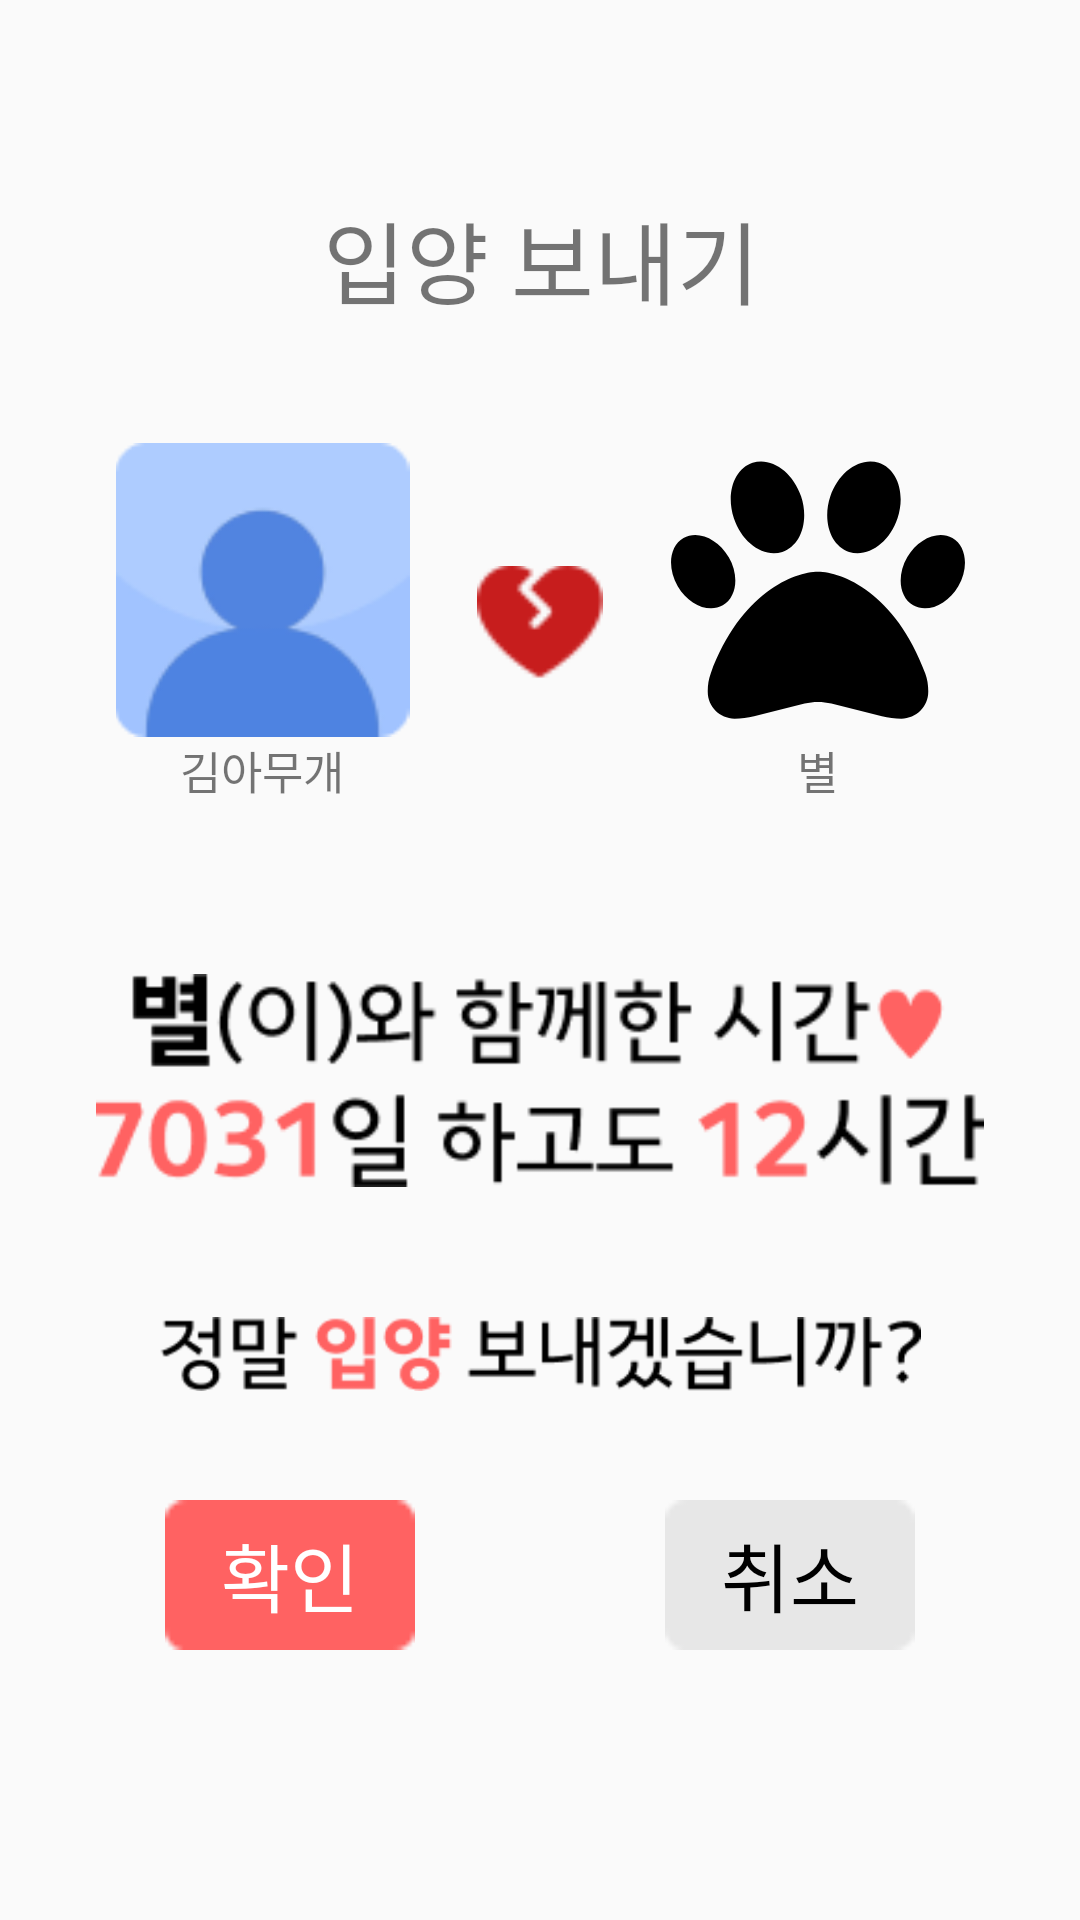

Where to tap for icons on this 1080×1920 app screen, as point (x, y):
broken heart emoji: point (540, 622)
paw: point (818, 590)
